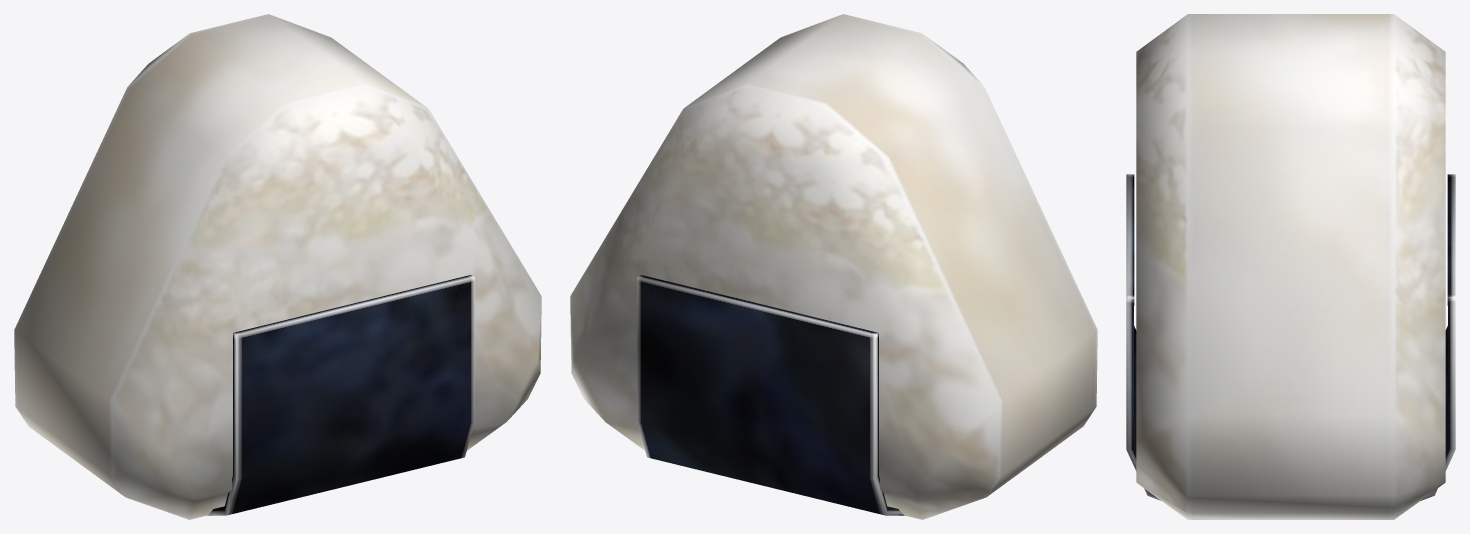
Rendered from onigiri_col.fbx.
3 views of the same model, side by side, from view 1: azimuth 30°, elevation 25°; view 2: azimuth 150°, elevation 25°; view 3: azimuth 270°, elevation 25° (orthographic). The views are drawn at different scales.
Parts seen in each view (by area): view 1: onigiri; view 2: onigiri; view 3: onigiri.
Part boxes in pixels (x1,y1,x2,y2): onigiri: (14,14,541,519); onigiri: (570,14,1097,519); onigiri: (1126,14,1455,519).
Size of the model in its own units: 150 by 131 by 93.63.
